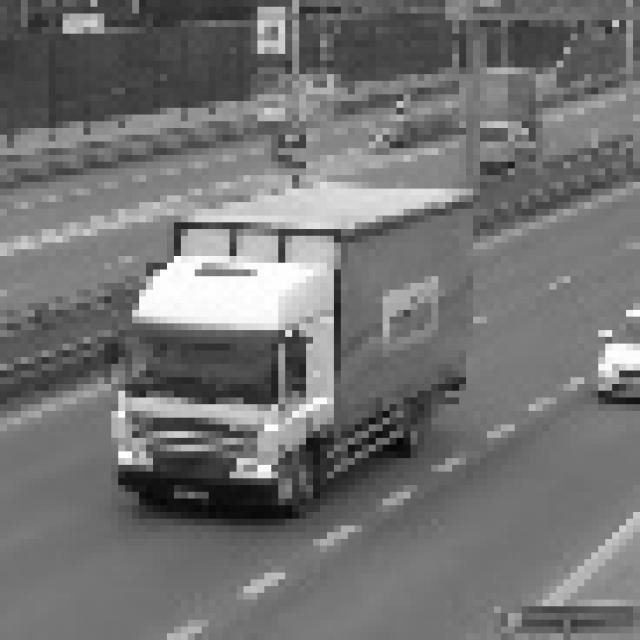truck: (91, 230, 352, 520)
